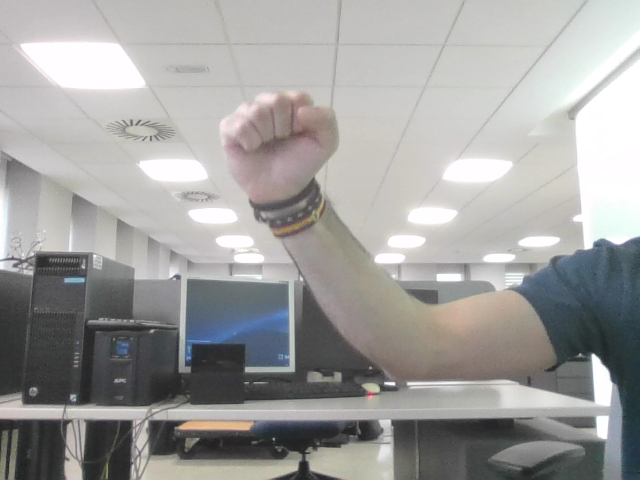Puño: (232, 99, 321, 171)
